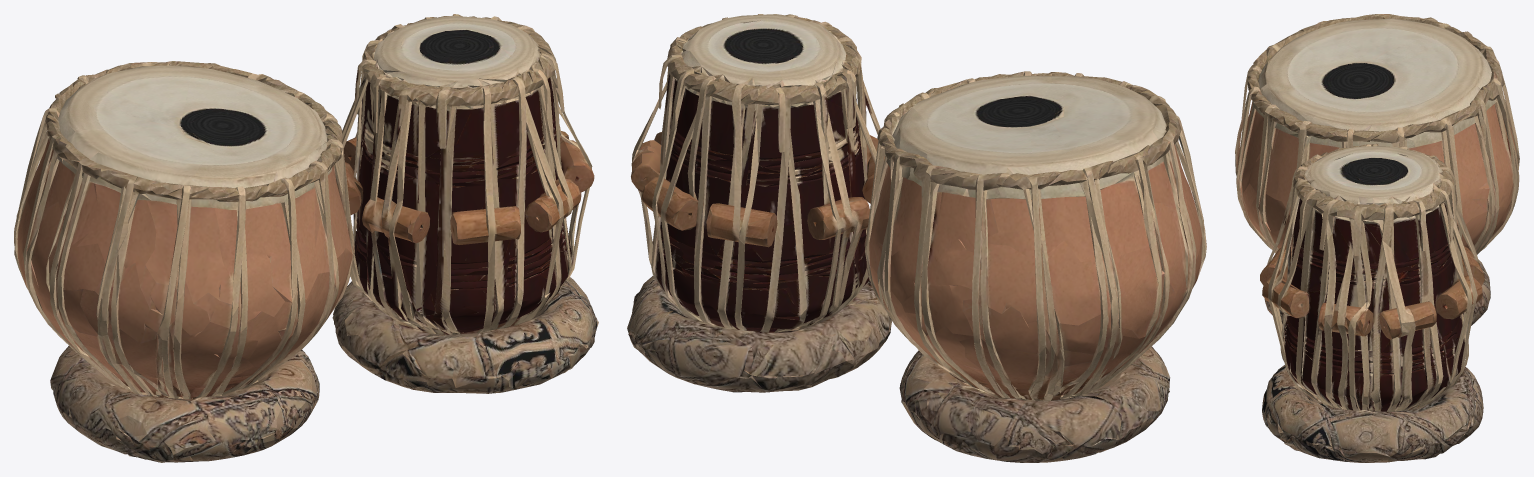
The model's file is tabla.glb.
3 views of the same model, side by side, from view 1: azimuth 30°, elevation 25°; view 2: azimuth 150°, elevation 25°; view 3: azimuth 270°, elevation 25° (orthographic). The views are drawn at different scales.
Parts seen in each view (by area): view 1: placed; view 2: placed; view 3: placed.
Part boxes in pixels (<box>): placed: <box>14,14,598,462</box>; placed: <box>627,14,1206,462</box>; placed: <box>1235,14,1519,462</box>.
Size of the model in its own units: 0.62 by 0.3373 by 0.3382.
1 material, 1 textured.
